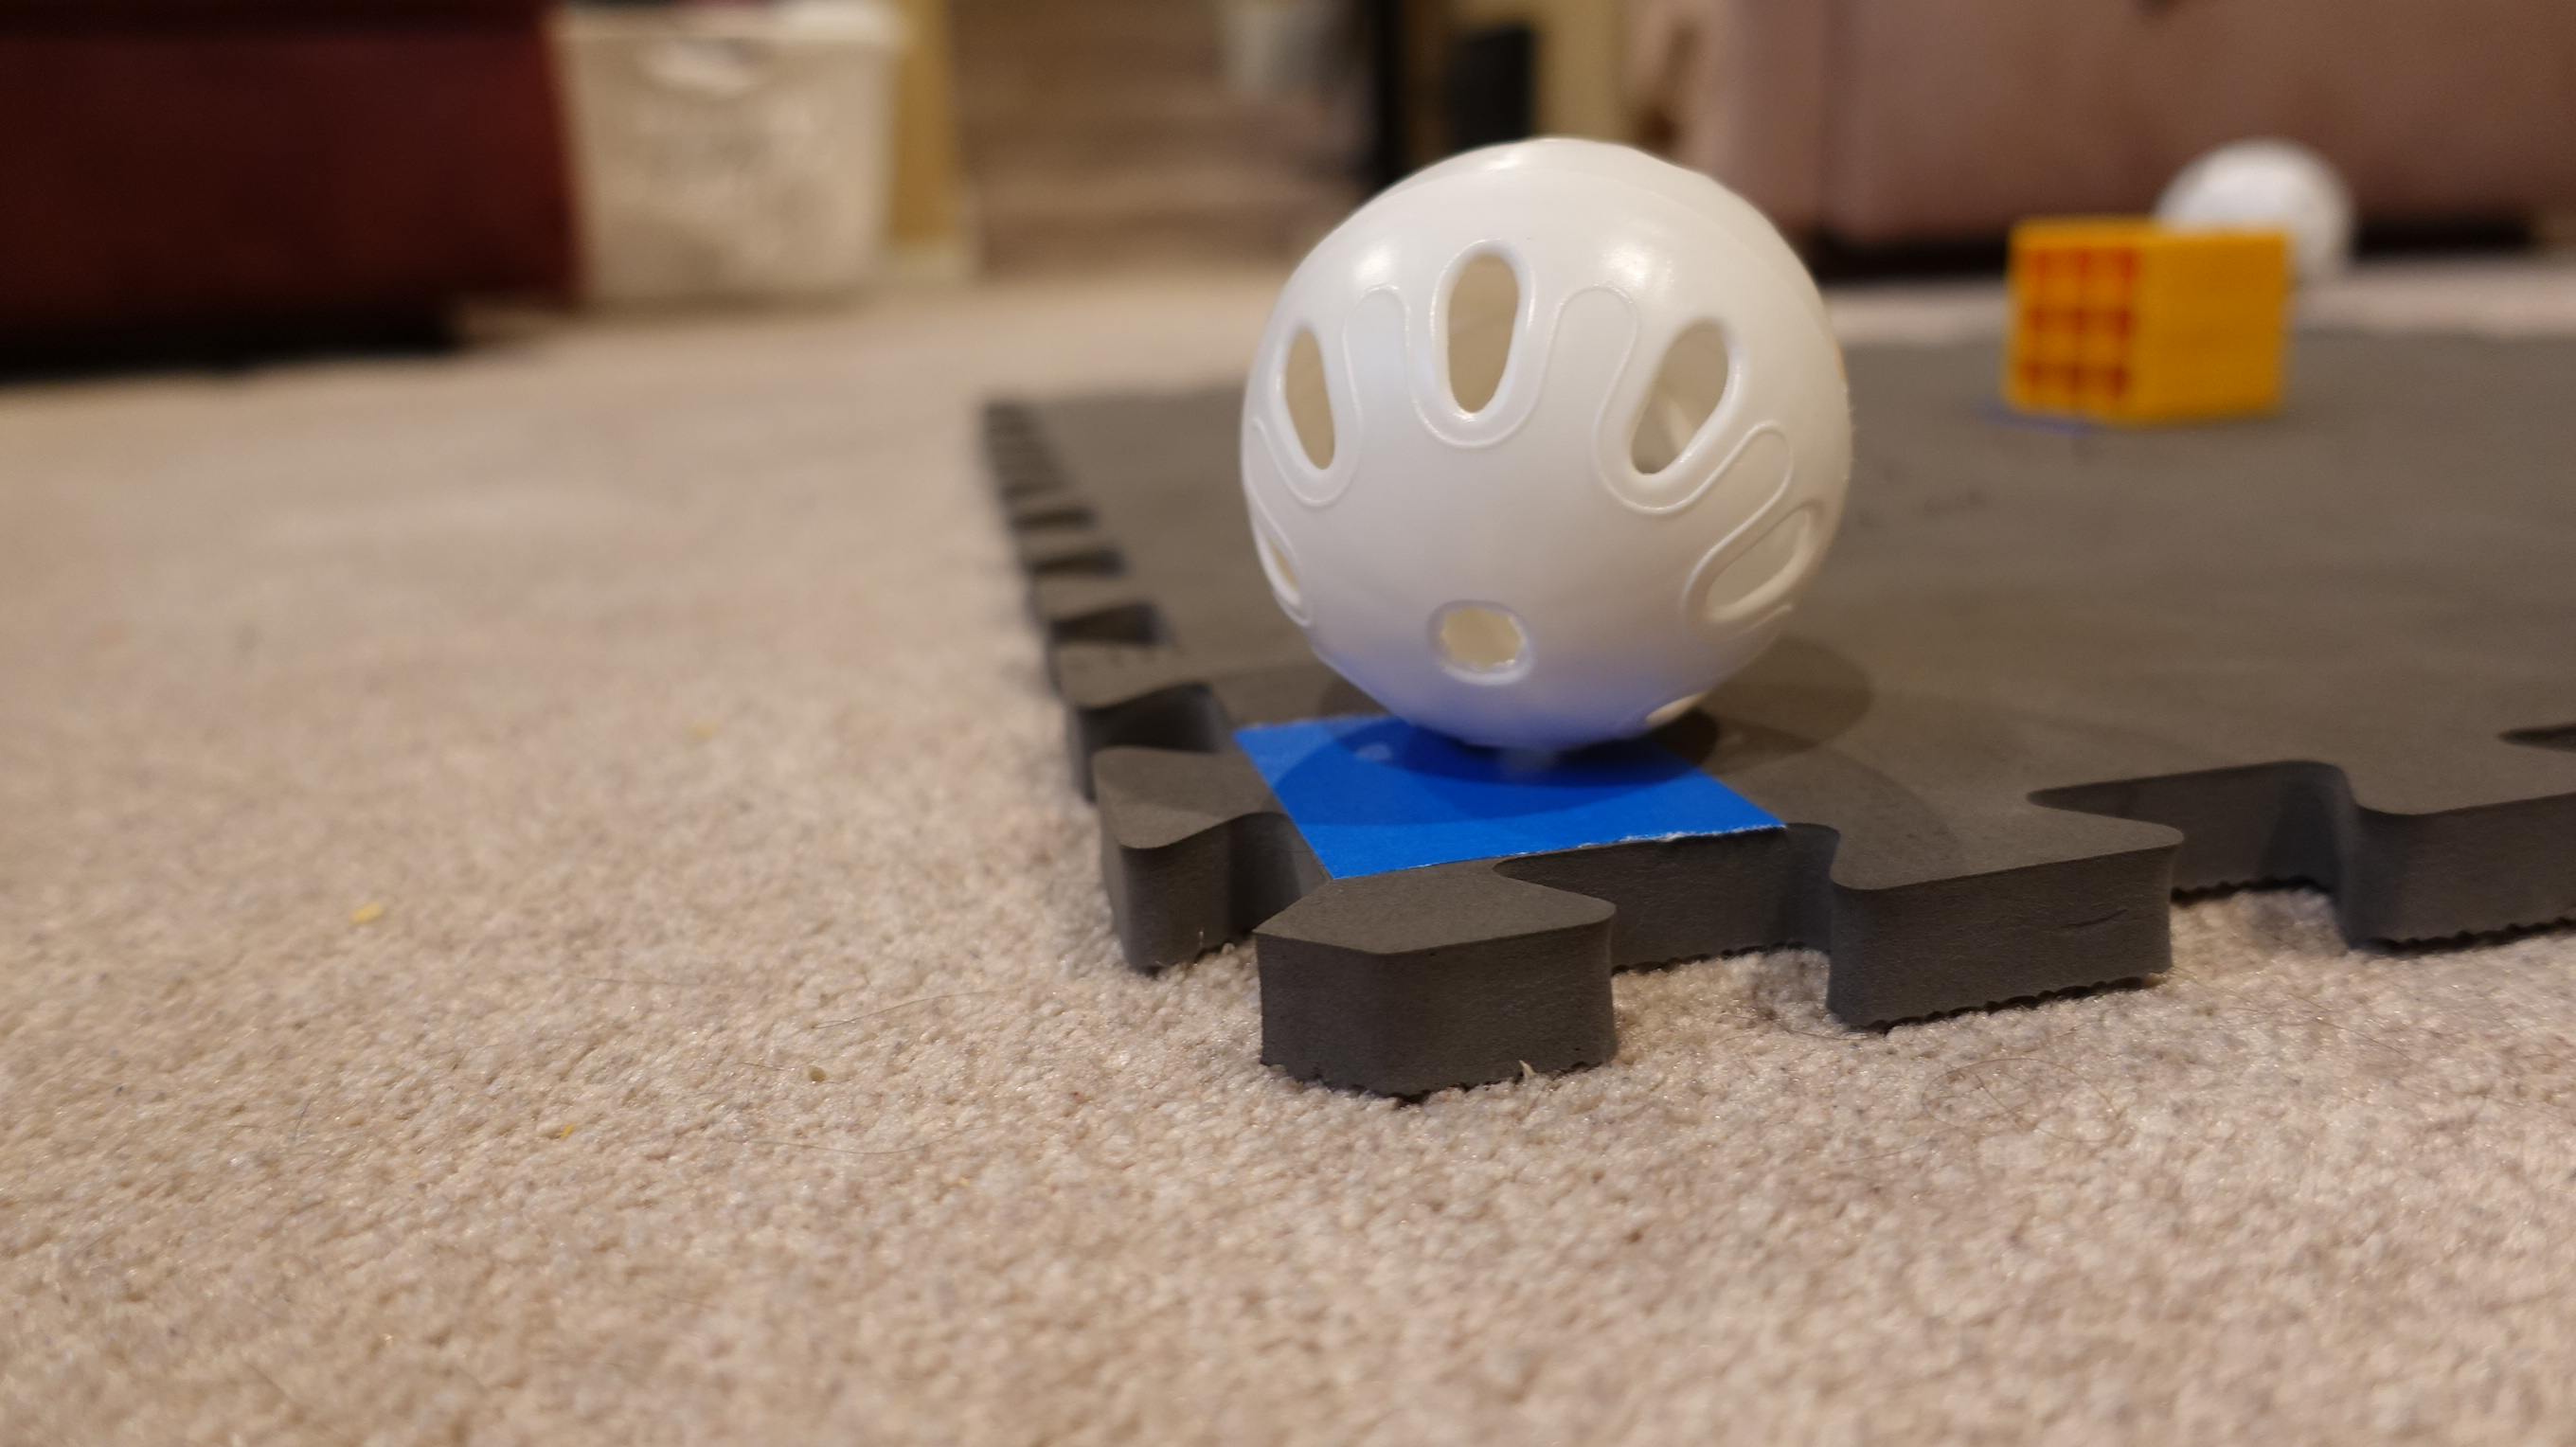gold: (2003, 195, 2298, 449)
silver: (1224, 138, 1861, 757)
